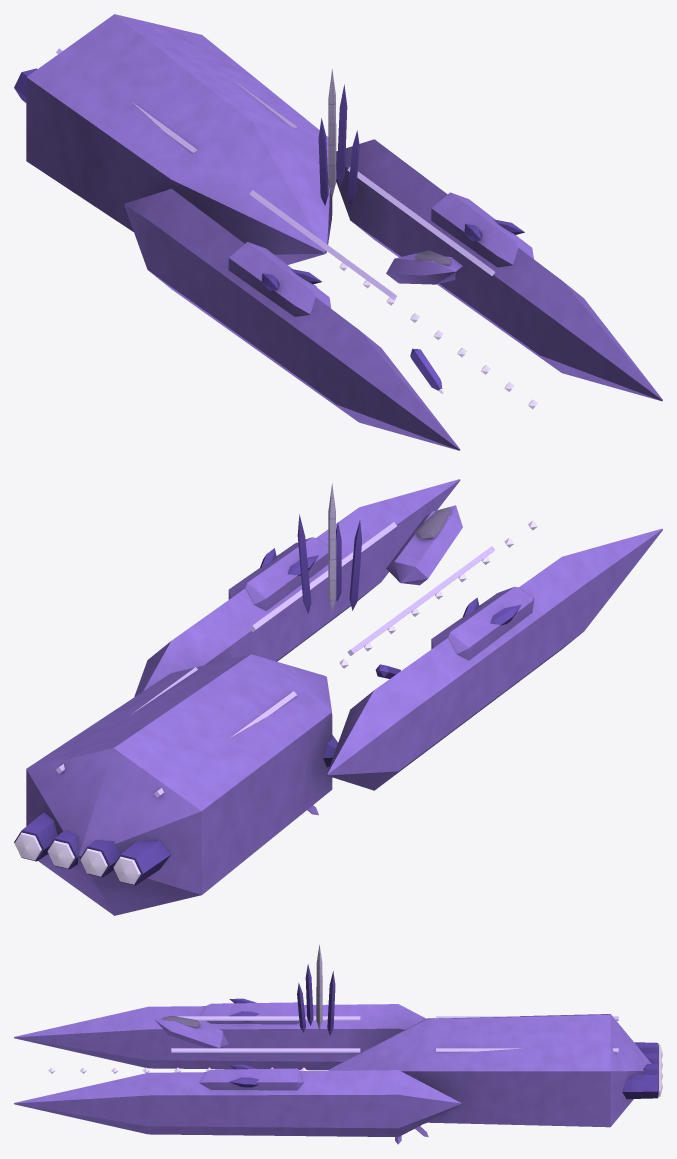
The model's file is myrr_destroyer.glb.
3 renders of one model, top to bottom at view 1: azimuth 30°, elevation 25°; view 2: azimuth 150°, elevation 25°; view 3: azimuth 270°, elevation 25°, orthographic. The views are drawn at different scales.
Parts seen in each view (by area): view 1: HULL, SYS_WPN1, SYS_WPN2, SYS_SENSORS, SYS_BUS_F, SYS_BRIDGE; view 2: HULL, SYS_DRIVE, SYS_WPN2, SYS_WPN1, SYS_BRIDGE, SYS_SENSORS, SYS_BUS_F, SYS_BUS_A; view 3: HULL, SYS_WPN1, SYS_WPN2, SYS_BUS_F, SYS_SENSORS, SYS_DRIVE, SYS_BRIDGE, SYS_BUS_A.
Part boxes in pixels (box(x1,y1,x2,y2)): HULL: box(26, 14, 662, 450); SYS_WPN1: box(431, 192, 533, 267); SYS_WPN2: box(228, 242, 331, 316); SYS_SENSORS: box(318, 69, 359, 205); SYS_BUS_F: box(249, 167, 495, 299); SYS_BRIDGE: box(386, 250, 462, 284); HULL: box(26, 479, 662, 915); SYS_DRIVE: box(14, 812, 170, 885); SYS_WPN2: box(431, 586, 533, 660); SYS_WPN1: box(228, 537, 328, 610); SYS_BRIDGE: box(386, 505, 462, 585); SYS_SENSORS: box(297, 483, 362, 613); SYS_BUS_F: box(249, 522, 494, 655); SYS_BUS_A: box(56, 667, 296, 797); HULL: box(14, 1004, 651, 1136); SYS_WPN1: box(199, 1064, 303, 1090); SYS_WPN2: box(200, 998, 299, 1024); SYS_BUS_F: box(171, 1016, 360, 1052); SYS_SENSORS: box(297, 944, 335, 1035); SYS_DRIVE: box(622, 1042, 662, 1099); SYS_BRIDGE: box(154, 1015, 228, 1048); SYS_BUS_A: box(436, 1016, 618, 1052).
Size of the model in its own units: 14.07 by 14.9 by 47.14.
1 material, 1 textured.
